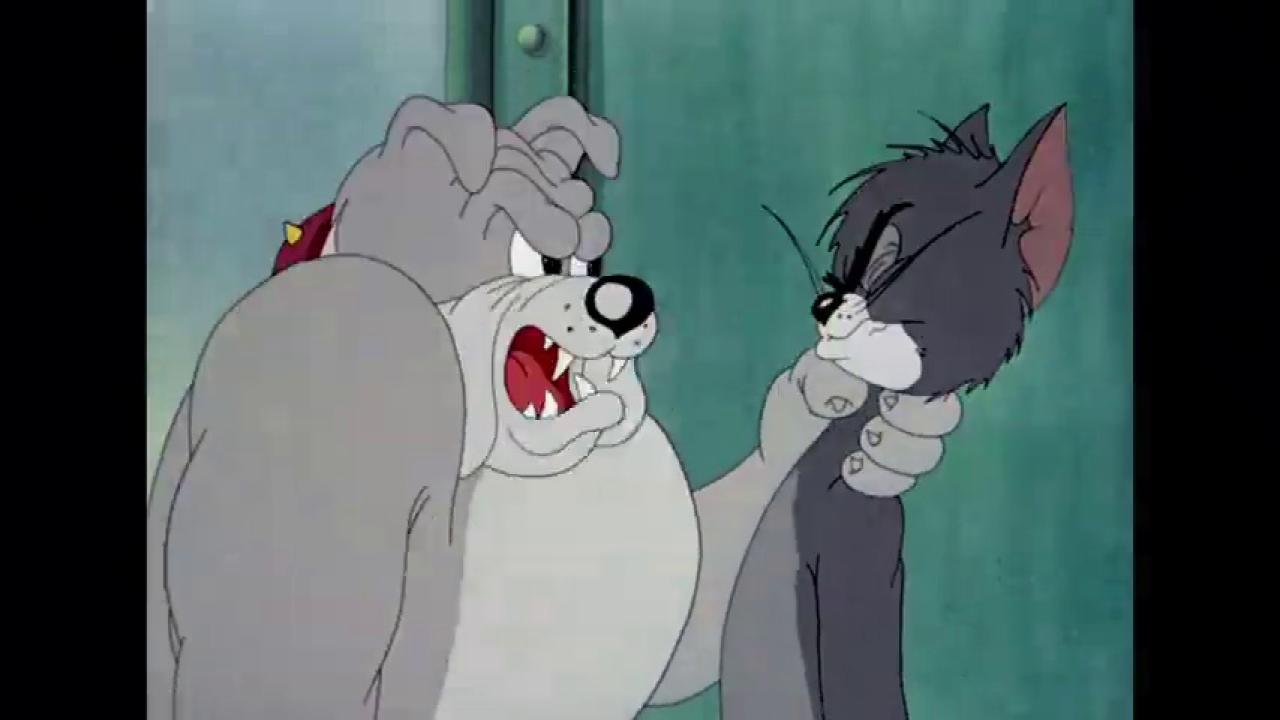Tom: (721, 100, 1076, 720)
